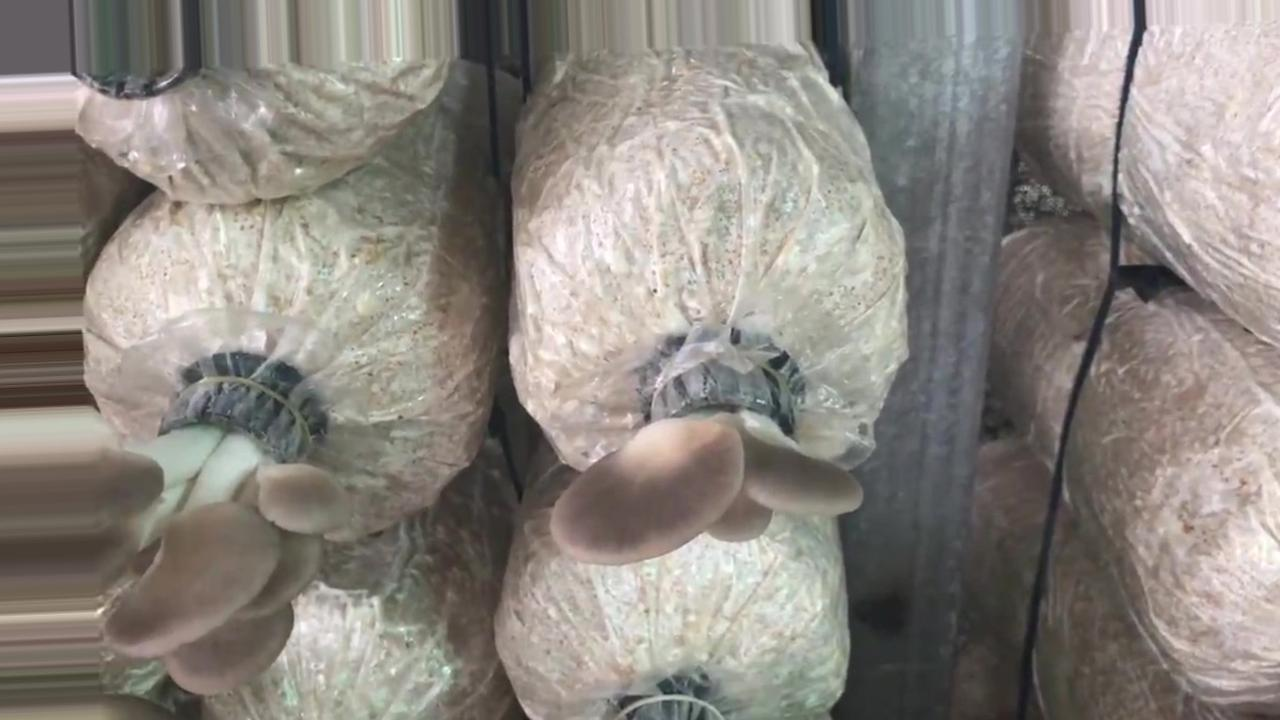nam: (99, 364, 357, 705), (549, 331, 866, 570)
